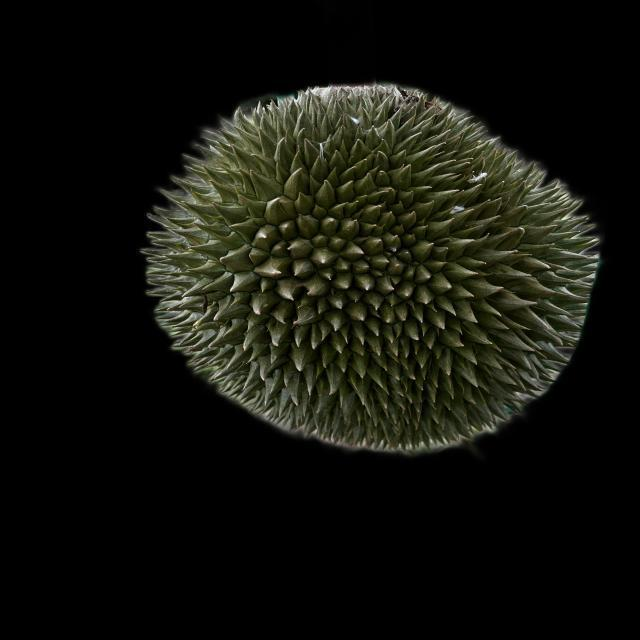UNRIPE: (138, 86, 600, 452)
